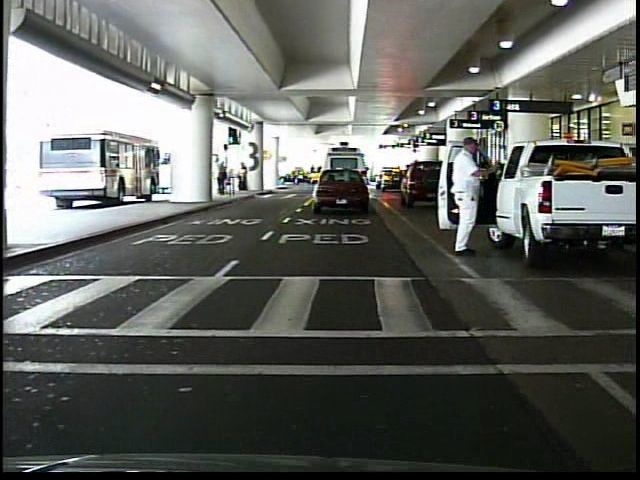person: (447, 131, 485, 259), (215, 155, 229, 200), (235, 163, 251, 196)
